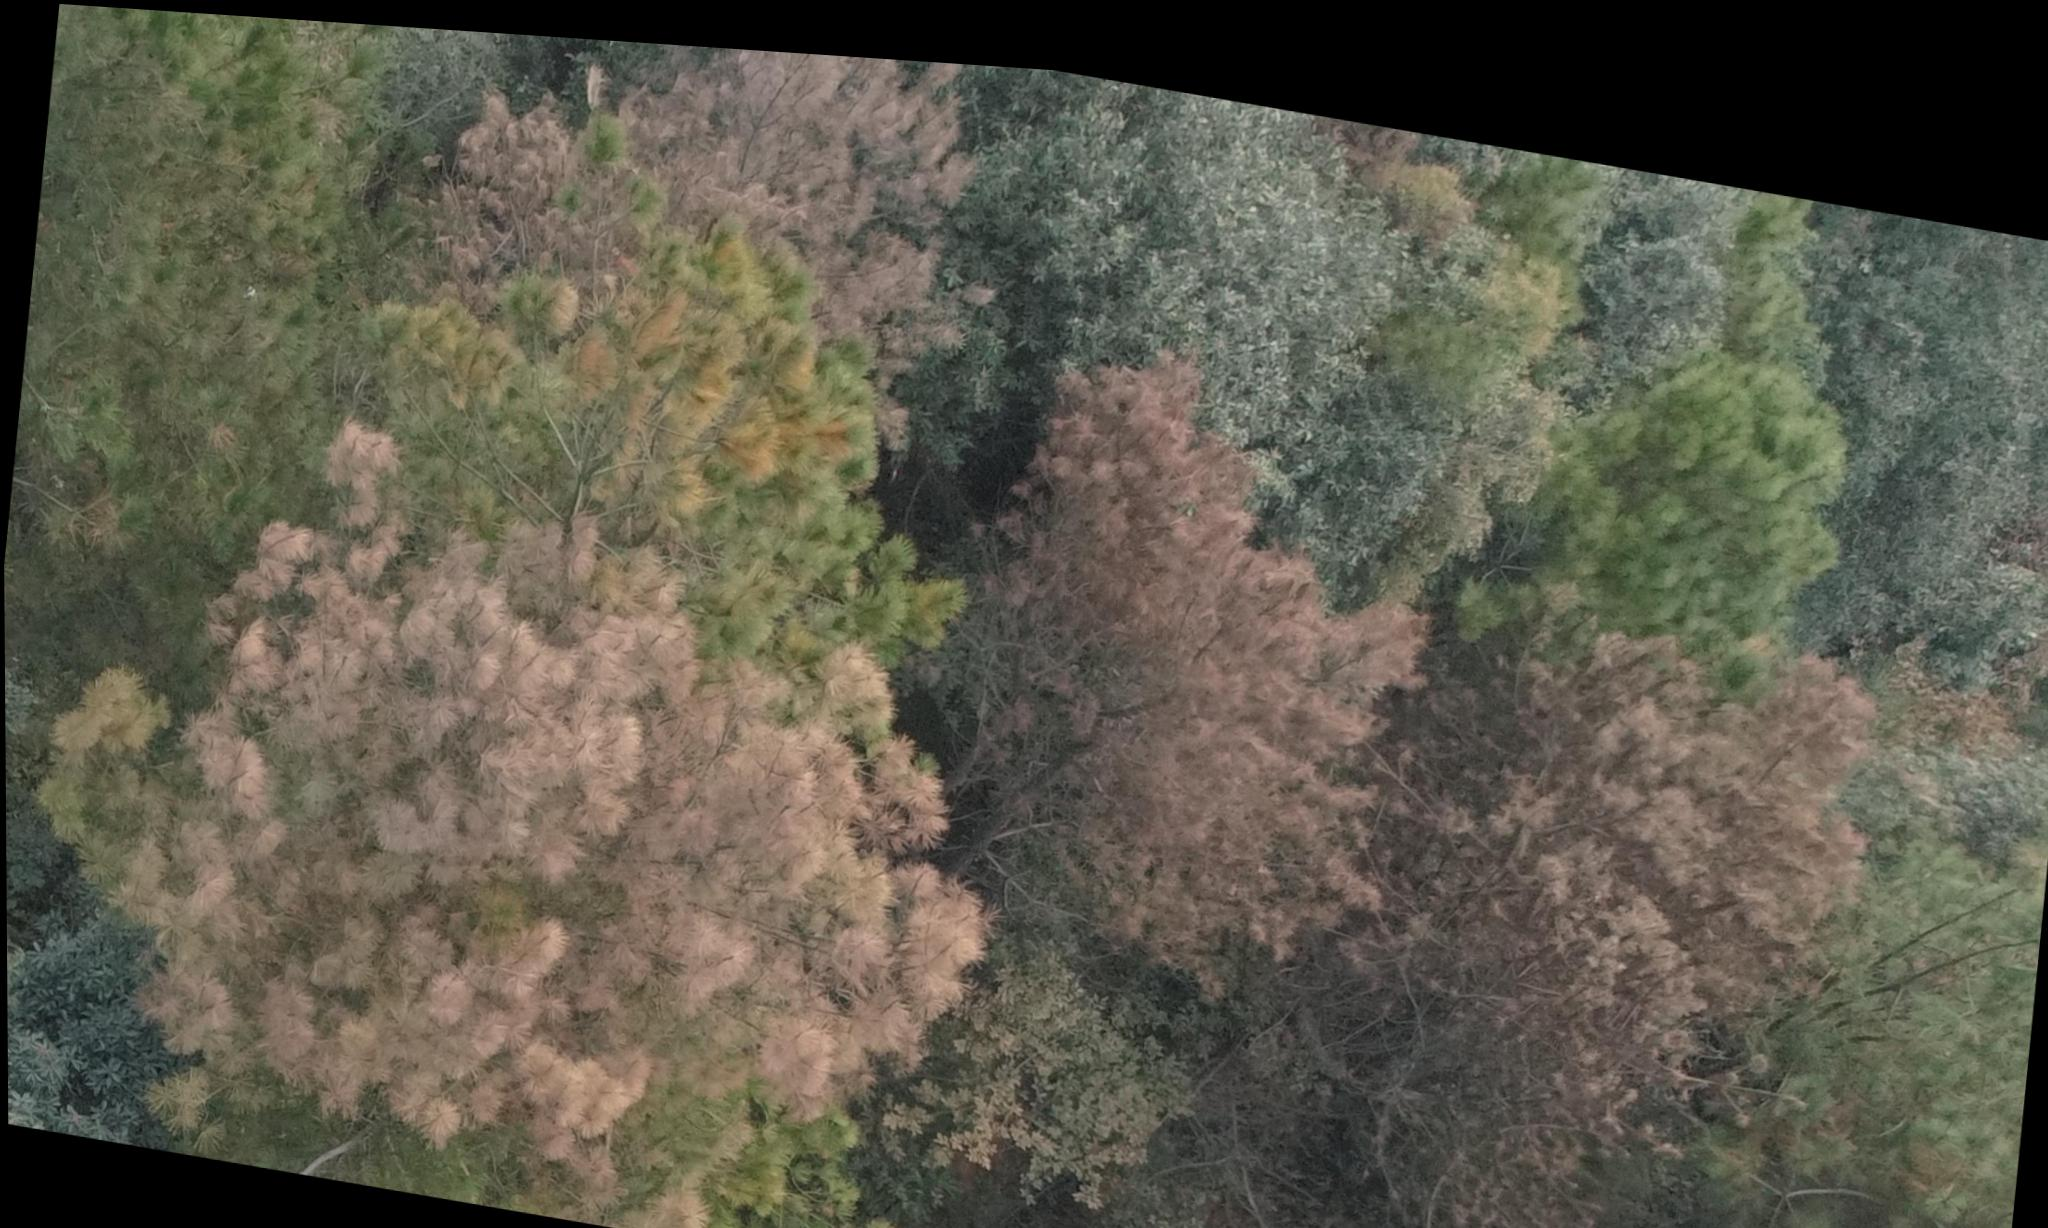heavy: (6, 411, 1019, 1228), (811, 269, 1541, 1017), (1351, 535, 1914, 1228), (314, 16, 1028, 399)
light: (289, 126, 982, 690)
